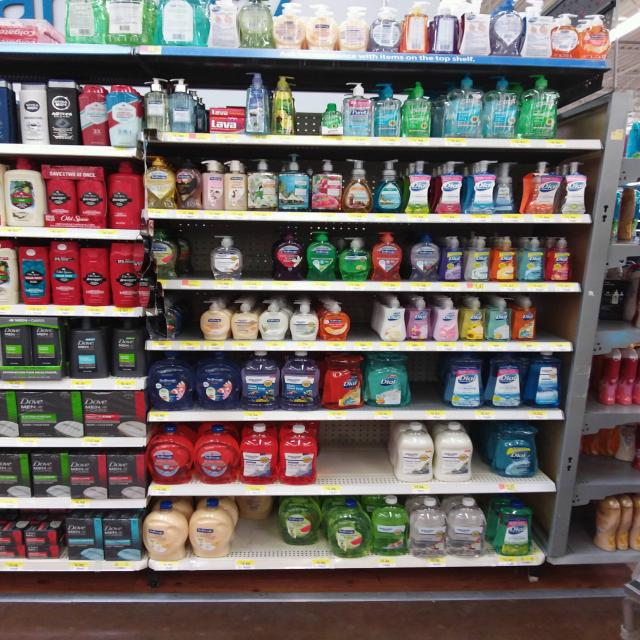void: (562, 73, 601, 151), (324, 420, 357, 498), (362, 421, 396, 496), (415, 352, 444, 423), (159, 293, 191, 356), (180, 224, 208, 292), (542, 295, 575, 352), (244, 222, 271, 290), (354, 292, 374, 350), (301, 76, 317, 146)
